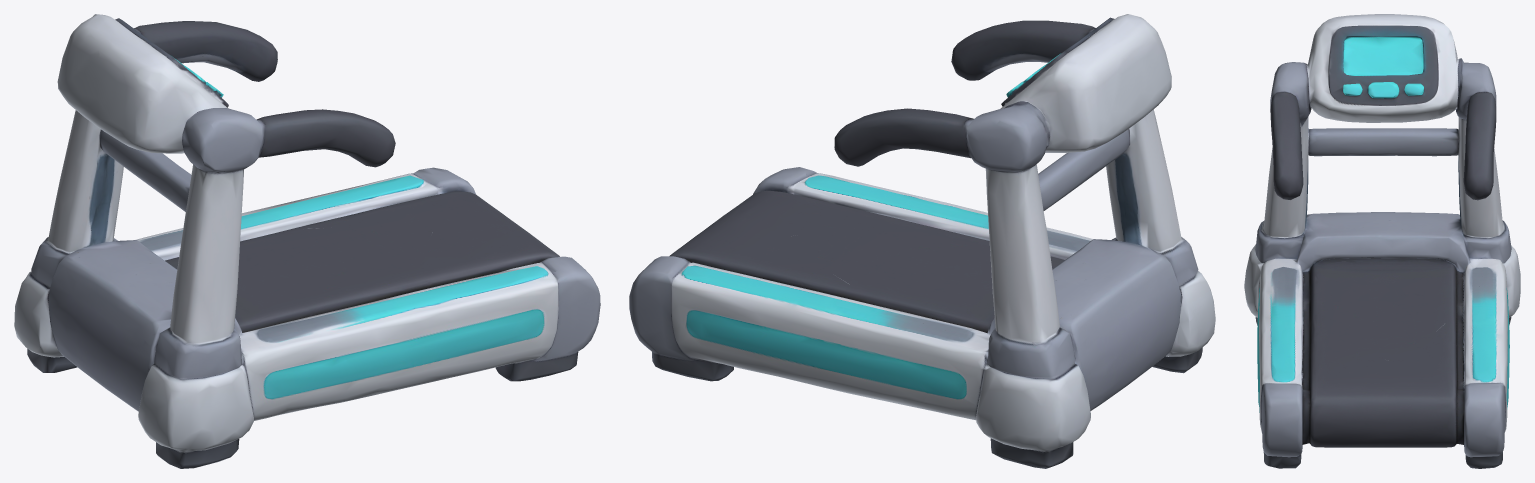
The model's file is treadmill.glb.
The picture shows the model from 3 angles, left to right: view 1: azimuth 30°, elevation 25°; view 2: azimuth 150°, elevation 25°; view 3: azimuth 270°, elevation 25°; orthographic projection. The views are drawn at different scales.
Visible parts, largest first — view 1: tripo_node_6ffa5991-3f60-4e59-aaab-bd12762c497e; view 2: tripo_node_6ffa5991-3f60-4e59-aaab-bd12762c497e; view 3: tripo_node_6ffa5991-3f60-4e59-aaab-bd12762c497e.
Boxes of the visible parts, <box> form: tripo_node_6ffa5991-3f60-4e59-aaab-bd12762c497e: <box>14,14,600,468</box>; tripo_node_6ffa5991-3f60-4e59-aaab-bd12762c497e: <box>629,14,1215,468</box>; tripo_node_6ffa5991-3f60-4e59-aaab-bd12762c497e: <box>1244,14,1520,468</box>.
Bounding box in the file's own units: 1 × 0.8035 × 0.6661.
1 material, 1 textured.
